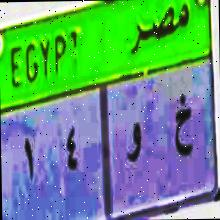1: (19, 132, 36, 188)
4: (61, 121, 82, 177)
khaa: (171, 91, 194, 164)
waw: (126, 116, 142, 173)
